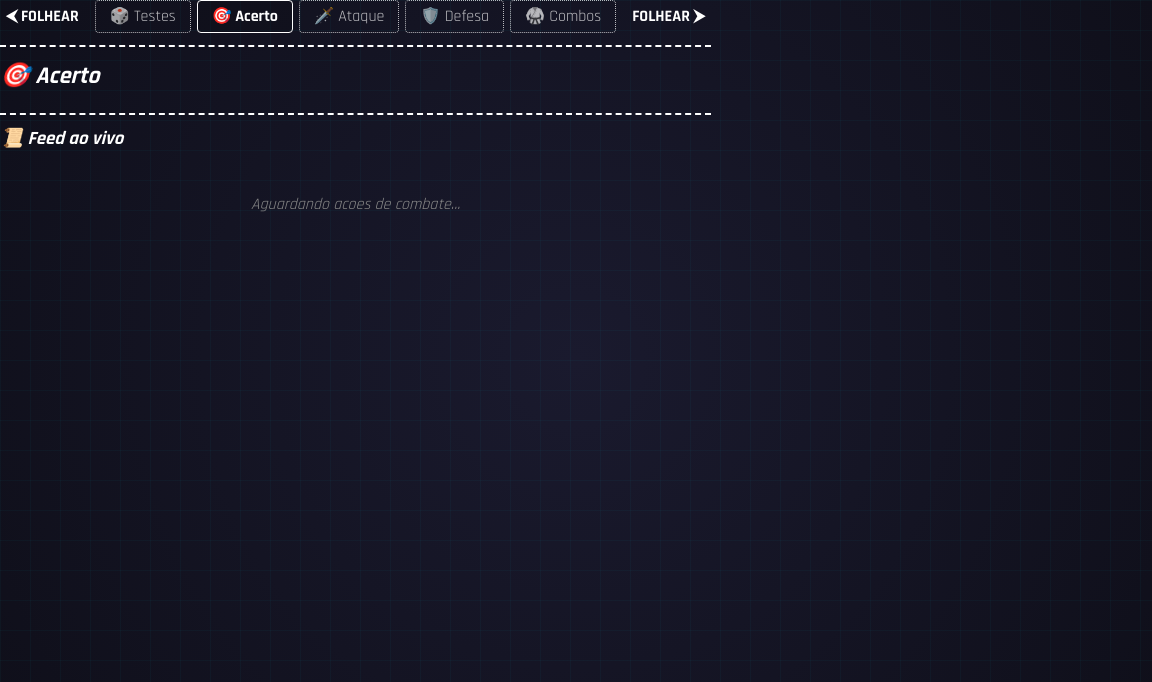
CombateFichaPanel - FOLHEAR › o titulo acompanha o capitulo
Click the button "FOLHEAR ⮞": (669, 16) [626,5,711,28]
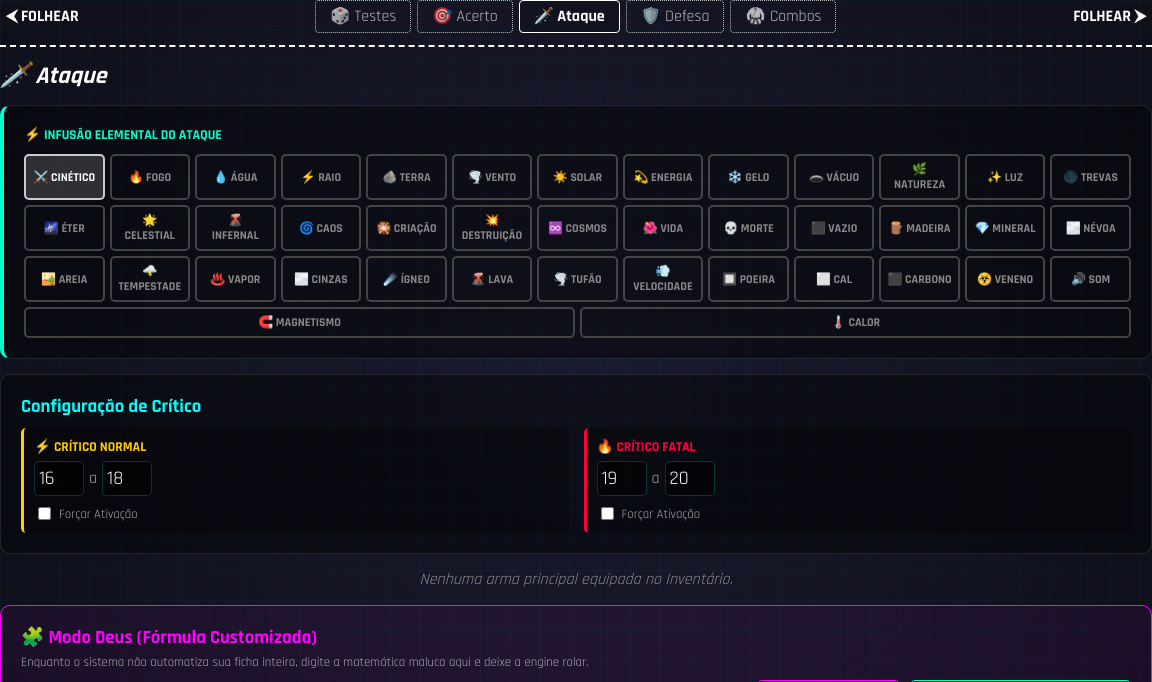
Result: the heading with class "combate-ficha-titulo" shows "Ataque" at [35,61,106,91]
